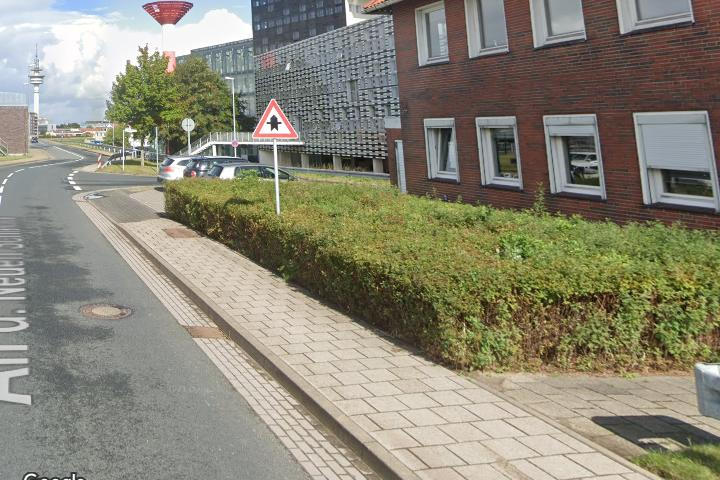traffic_sign: (251, 98, 299, 138)
